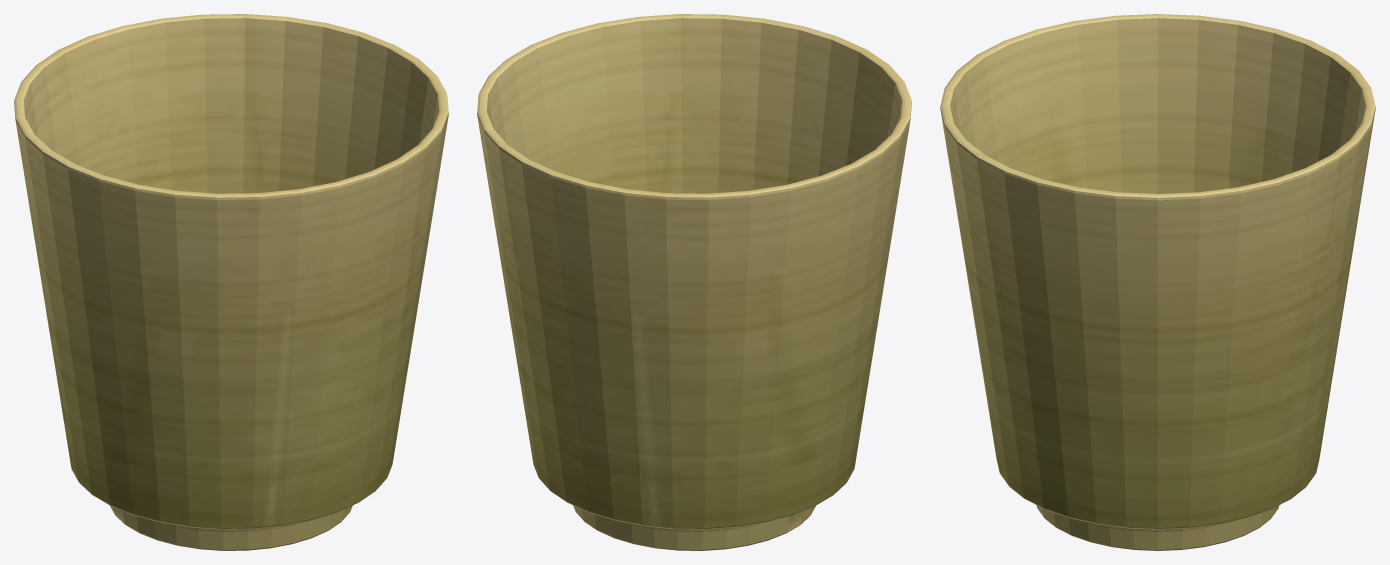
Rendered from sh-scopia-vase1.glb.
3 views of the same model, side by side, from view 1: azimuth 30°, elevation 25°; view 2: azimuth 150°, elevation 25°; view 3: azimuth 270°, elevation 25° (orthographic).
Parts seen in each view (by area): view 1: vase_Mesh.002; view 2: vase_Mesh.002; view 3: vase_Mesh.002.
Part boxes in pixels (x1,y1,x2,y2): vase_Mesh.002: (14,14,448,550); vase_Mesh.002: (477,14,911,550); vase_Mesh.002: (940,14,1375,550).
Size of the model in its own units: 1 by 1 by 1.
2 materials, 2 textured.
